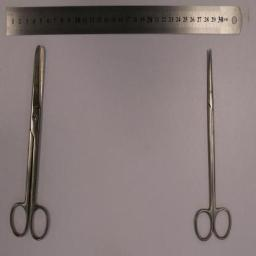Dressing Scissors: (10, 42, 50, 242)
